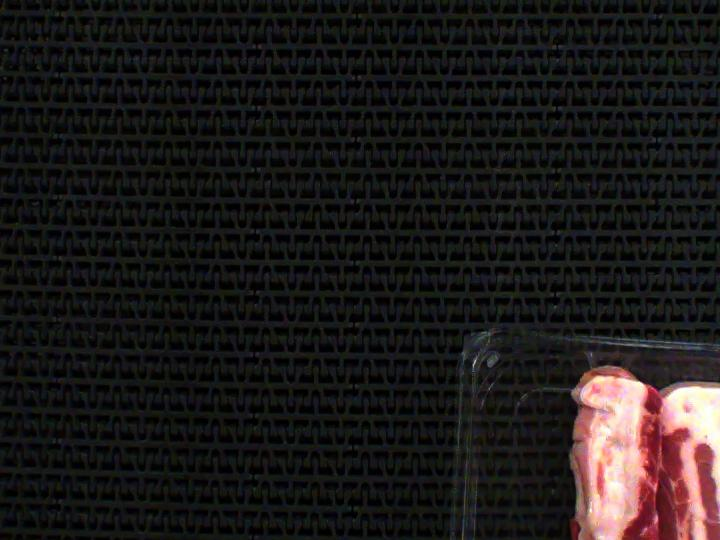packaging-error: (578, 343, 643, 379)
